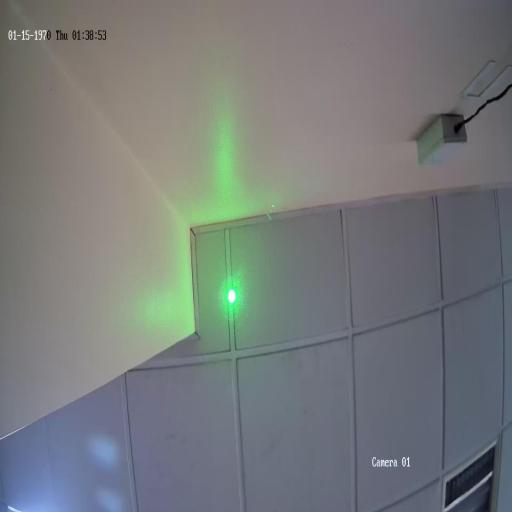laser: (219, 267, 243, 322)
